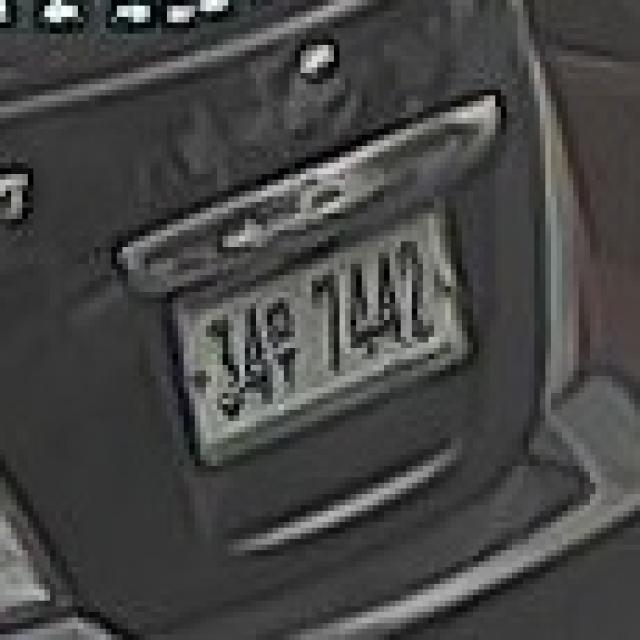plat: (162, 194, 482, 476)
